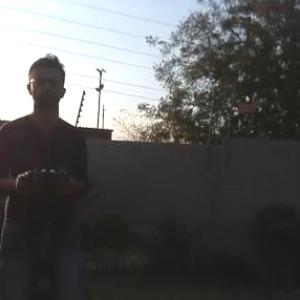follow: (0, 51, 93, 299)
